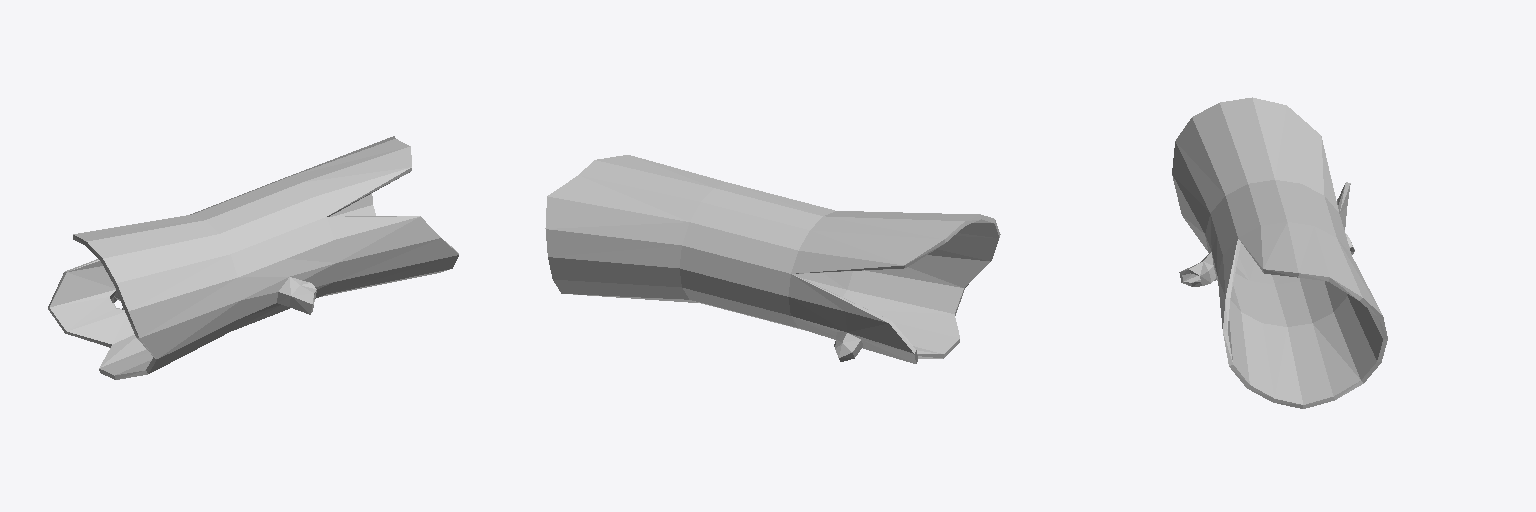
Rendered from konar_1.2.obj.
3 views of the same model, side by side, from view 1: azimuth 30°, elevation 25°; view 2: azimuth 150°, elevation 25°; view 3: azimuth 270°, elevation 25° (orthographic).
Visible parts, largest first — view 1: Circle.001; view 2: Circle.001; view 3: Circle.001.
Boxes of the visible parts, x1,y1,x2,y2 form: Circle.001: [48, 136, 458, 379]; Circle.001: [545, 155, 1000, 363]; Circle.001: [1172, 97, 1387, 408].
Bounding box in the file's own units: 2.8 × 1.01 × 1.43.